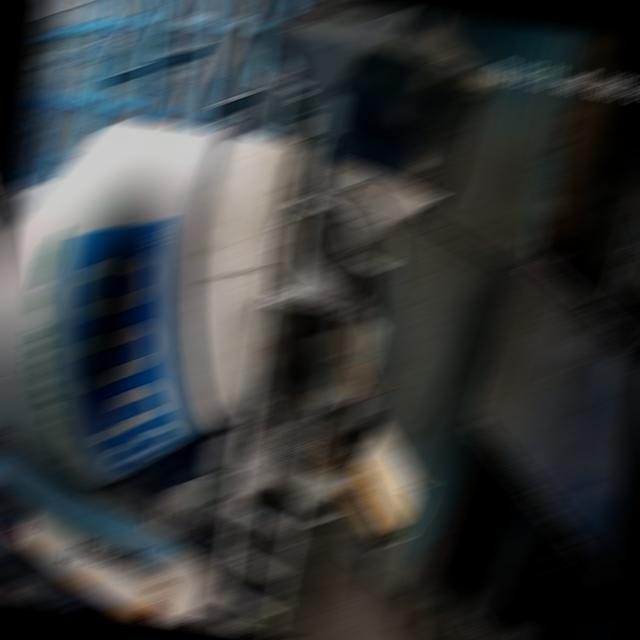cement_mixer_truck: (0, 123, 443, 634)
